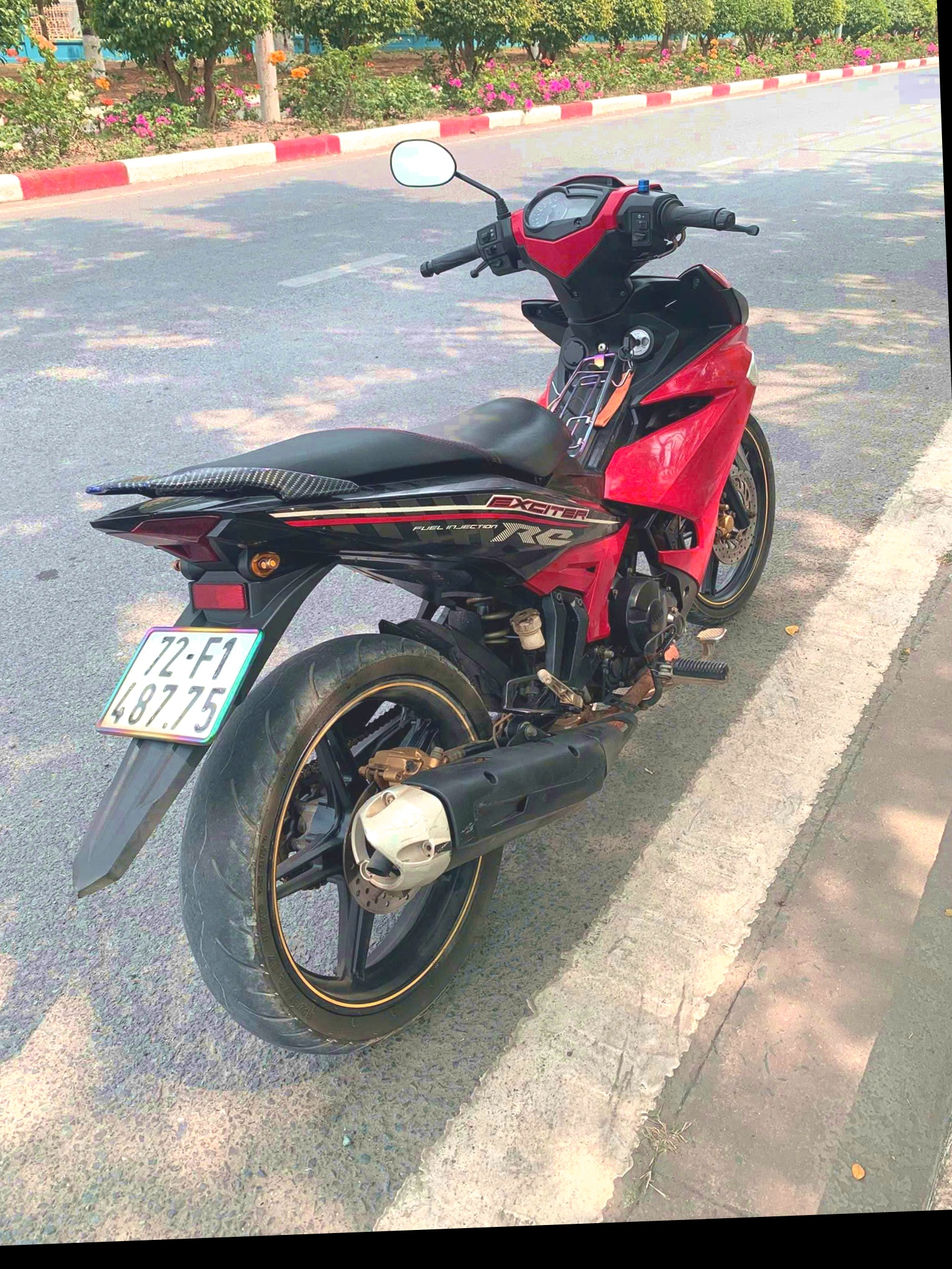Bien-so: (93, 623, 260, 750)
